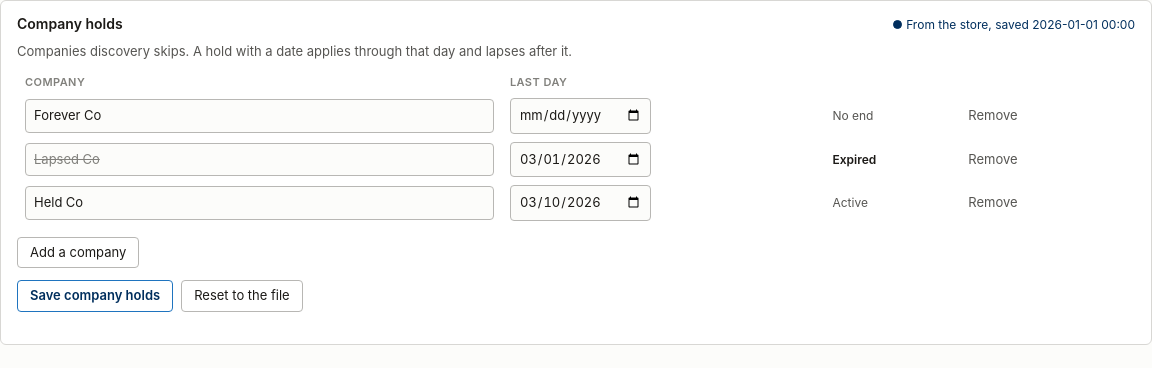
Test case: saves every hold in the store's two shapes, expired ones included
Click the button with aria-label "Remove Held Co". click: [993, 203]
box: [955,187,1031,218]
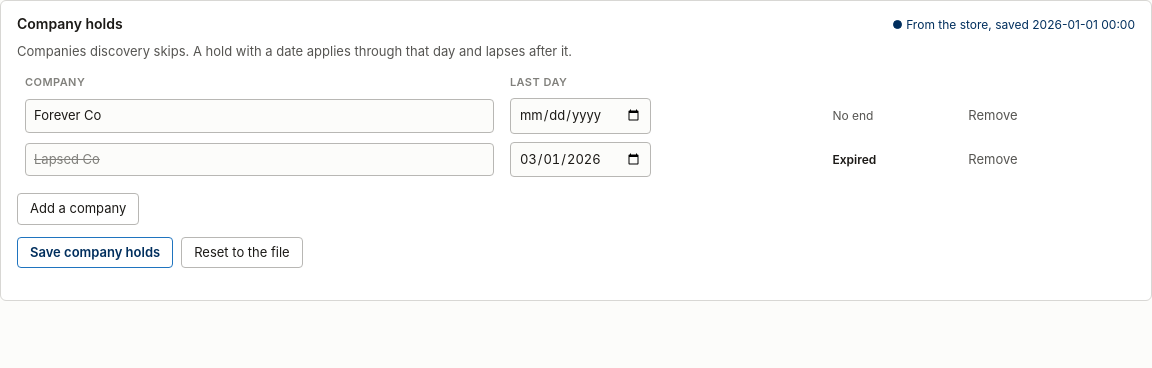
Click the button "Add a company". click: [78, 209]
box: [17,193,139,224]
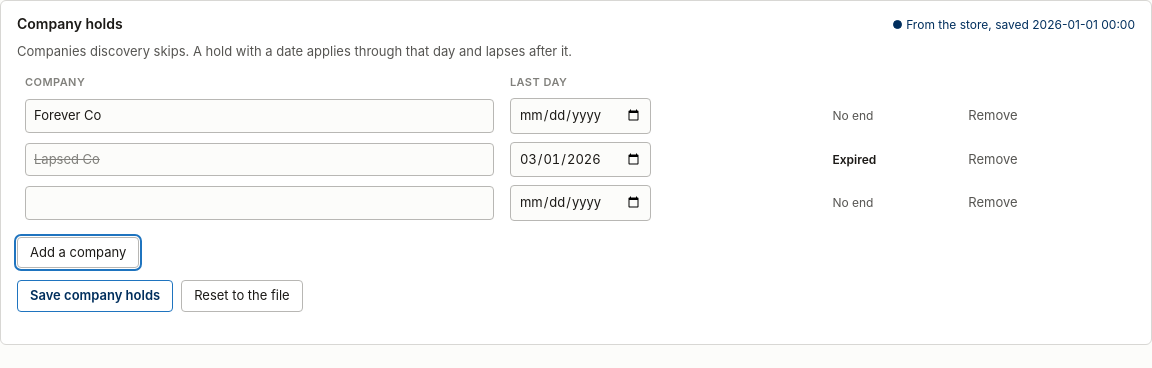
Type "New Co" into the field named "Company, row 3". click: [259, 203]
box: [25,186,494,220]
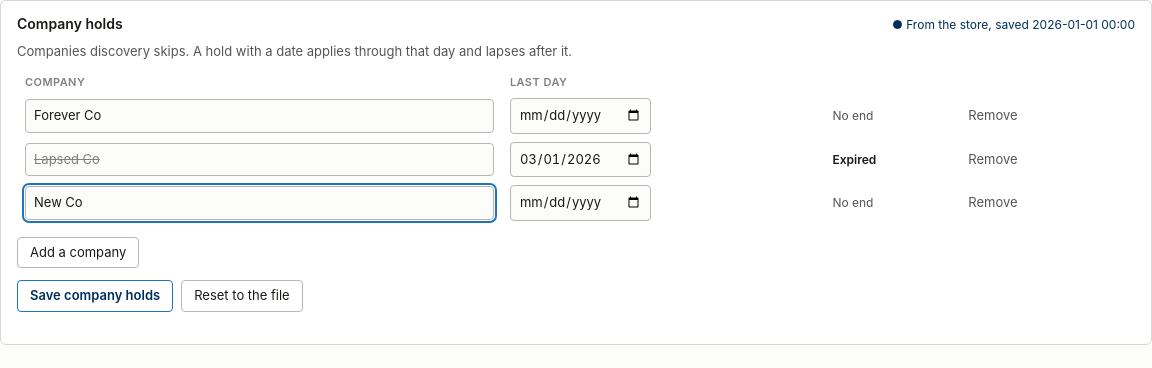
Click the button "Save company holds". click: [95, 296]
box: [17,280,173,312]
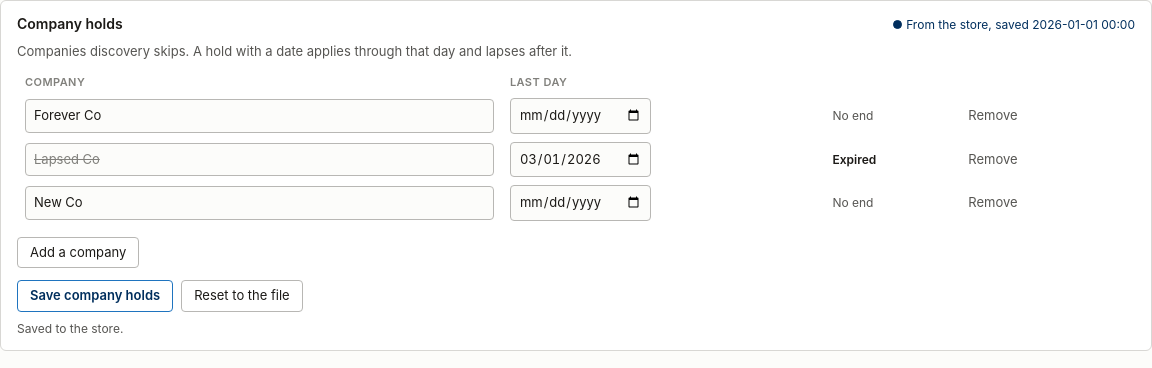
Result: the text "Saved to the store." is shown at [17,320,123,336]
